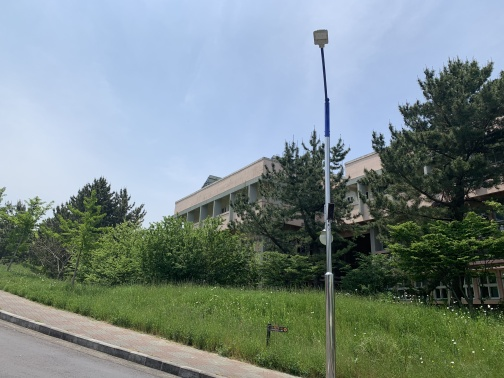College Of Education: (167, 128, 504, 317)
